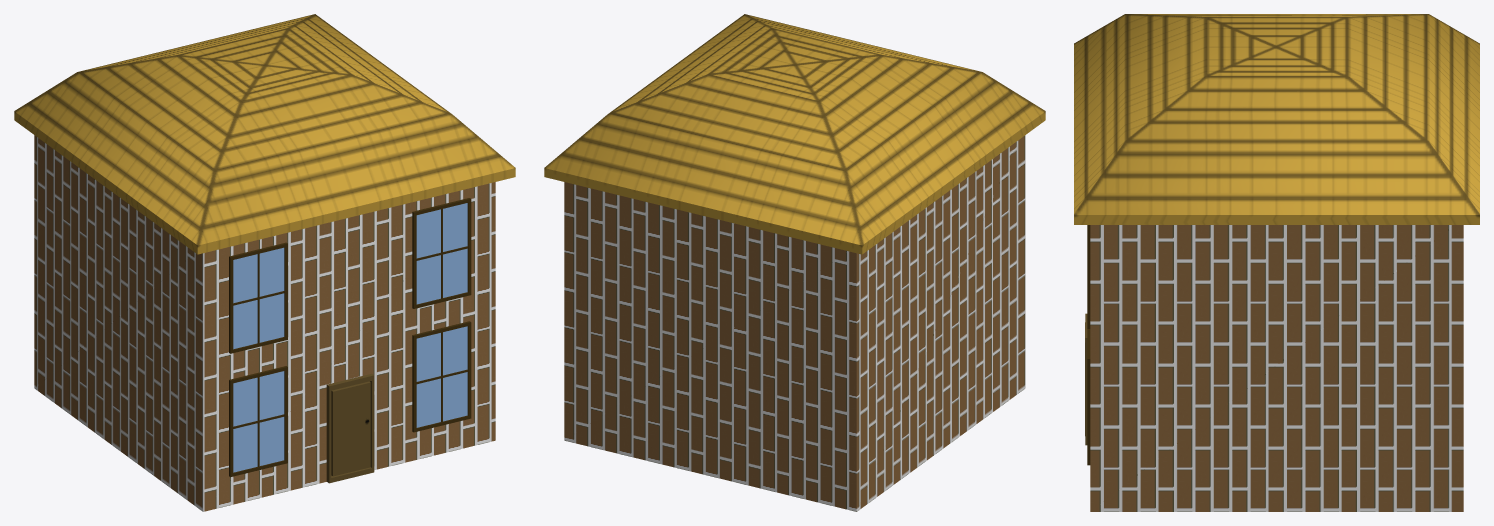
Rendered from SuburbanResidential2.fbx.
3 views of the same model, side by side, from view 1: azimuth 30°, elevation 25°; view 2: azimuth 150°, elevation 25°; view 3: azimuth 270°, elevation 25° (orthographic). The views are drawn at different scales.
Visible parts, largest first — view 1: House, Window2, Window4, Window5, Window3, DoorFrame; view 2: House; view 3: House, Window4.
Boxes of the visible parts, x1=… form: House: x1=14, y1=14, x2=515, y2=511; Window2: x1=412, y1=198, x2=471, y2=308; Window4: x1=412, y1=321, x2=471, y2=432; Window5: x1=229, y1=242, x2=287, y2=353; Window3: x1=229, y1=366, x2=287, y2=477; DoorFrame: x1=326, y1=373, x2=374, y2=483; House: x1=544, y1=14, x2=1045, y2=511; House: x1=1074, y1=14, x2=1479, y2=511; Window4: x1=1087, y1=329, x2=1090, y2=465.
Bounding box in the file's own units: 16 × 16.8 × 16.
